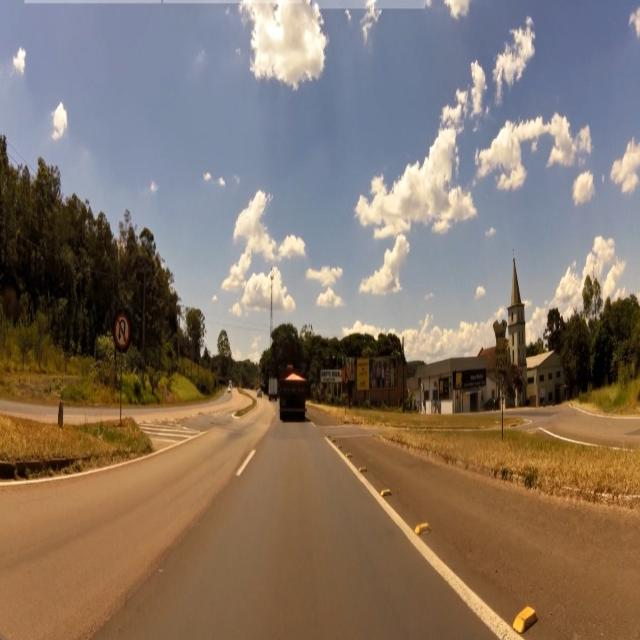R-5a: (116, 315, 129, 346)
